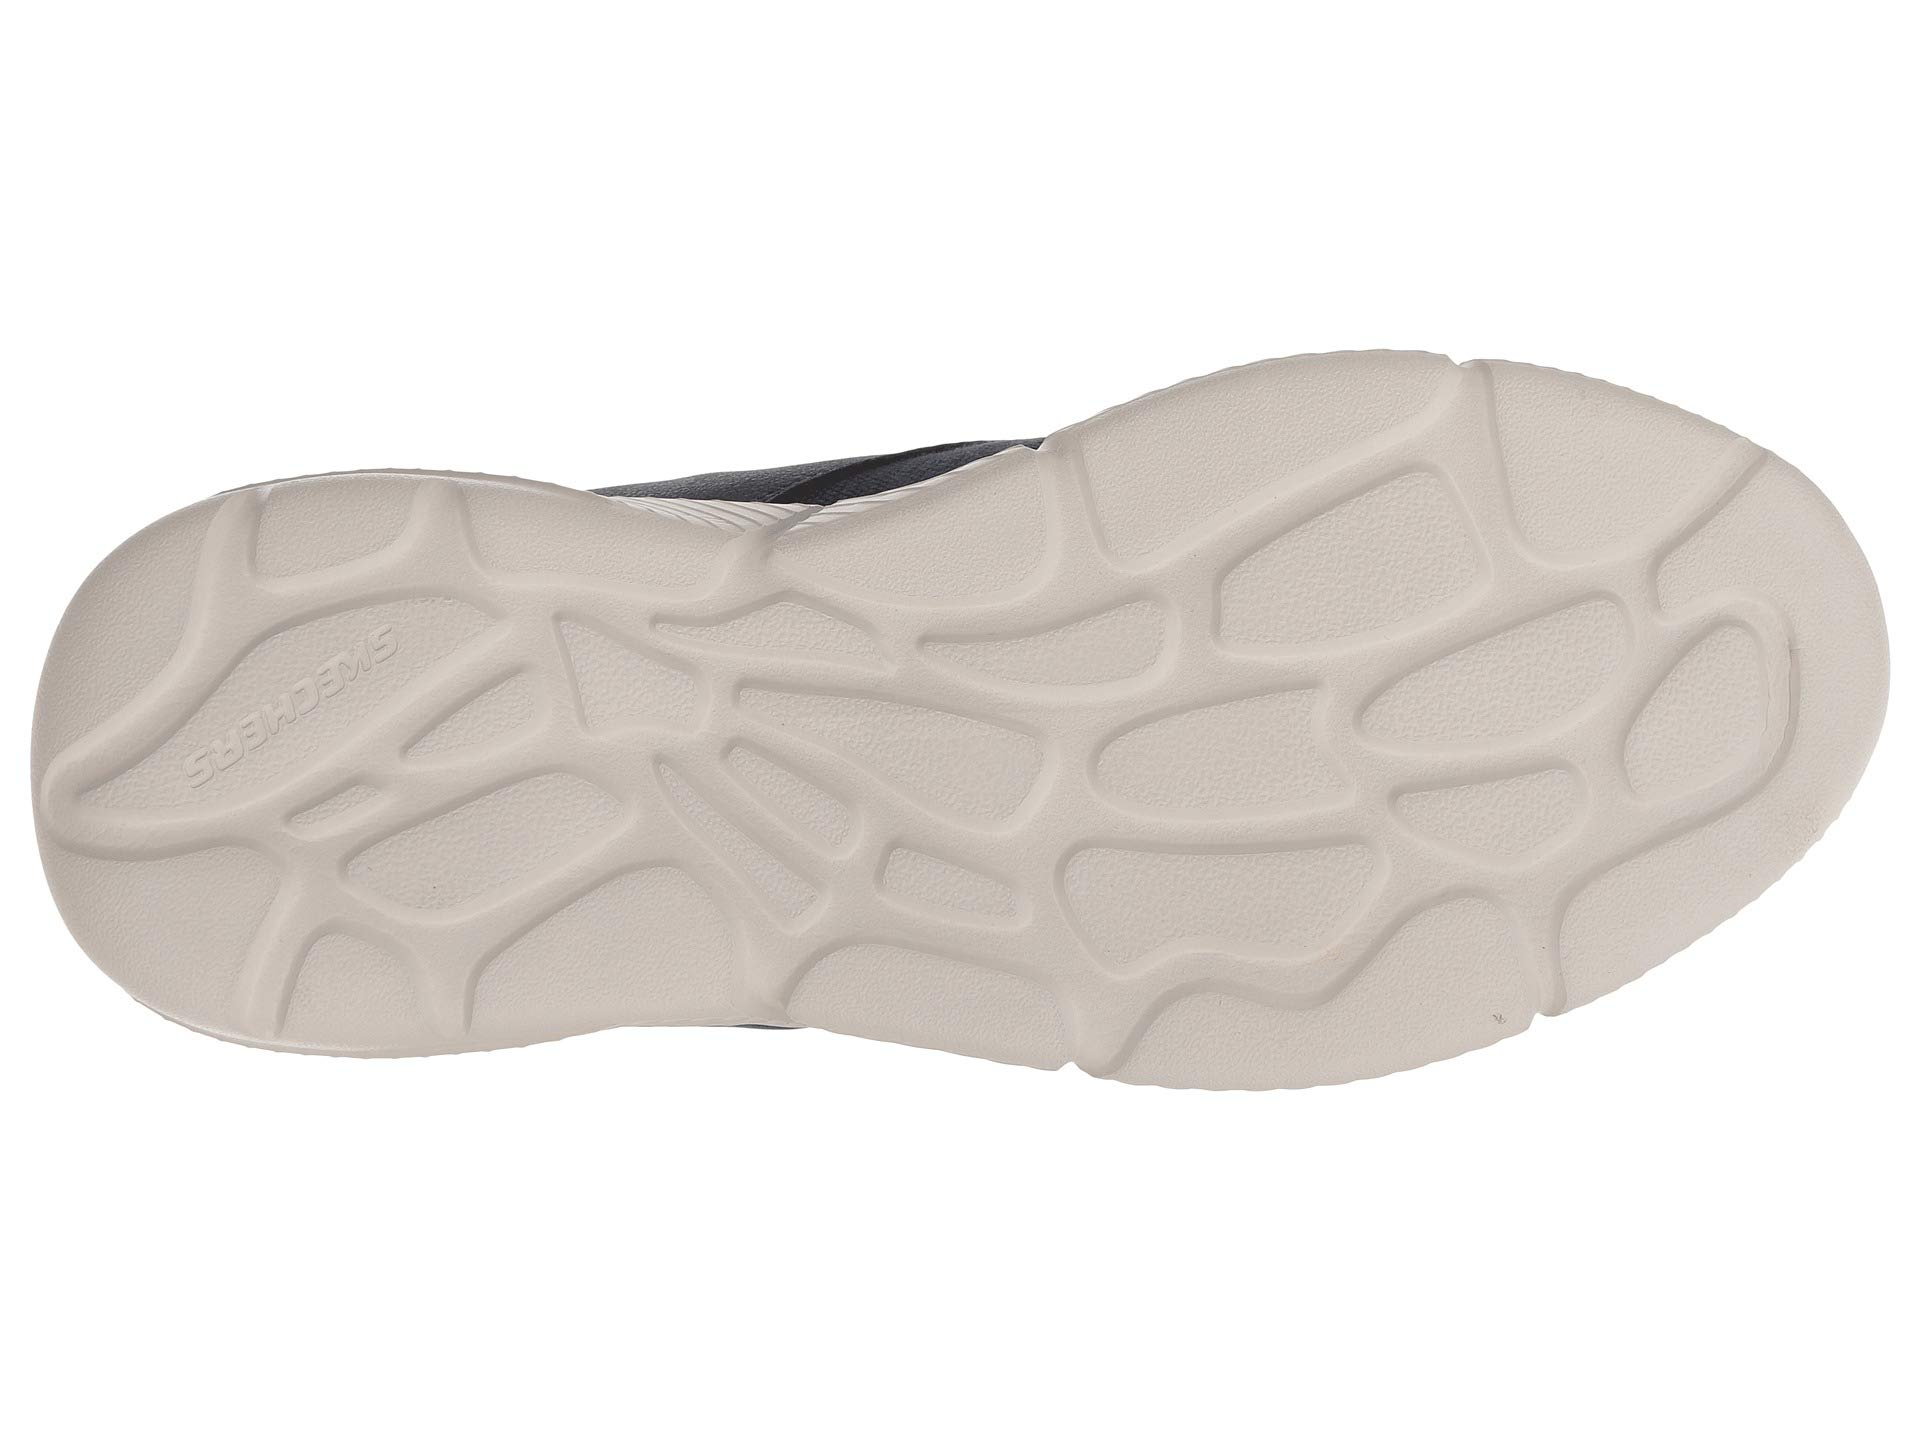text: (147, 591, 441, 833)
